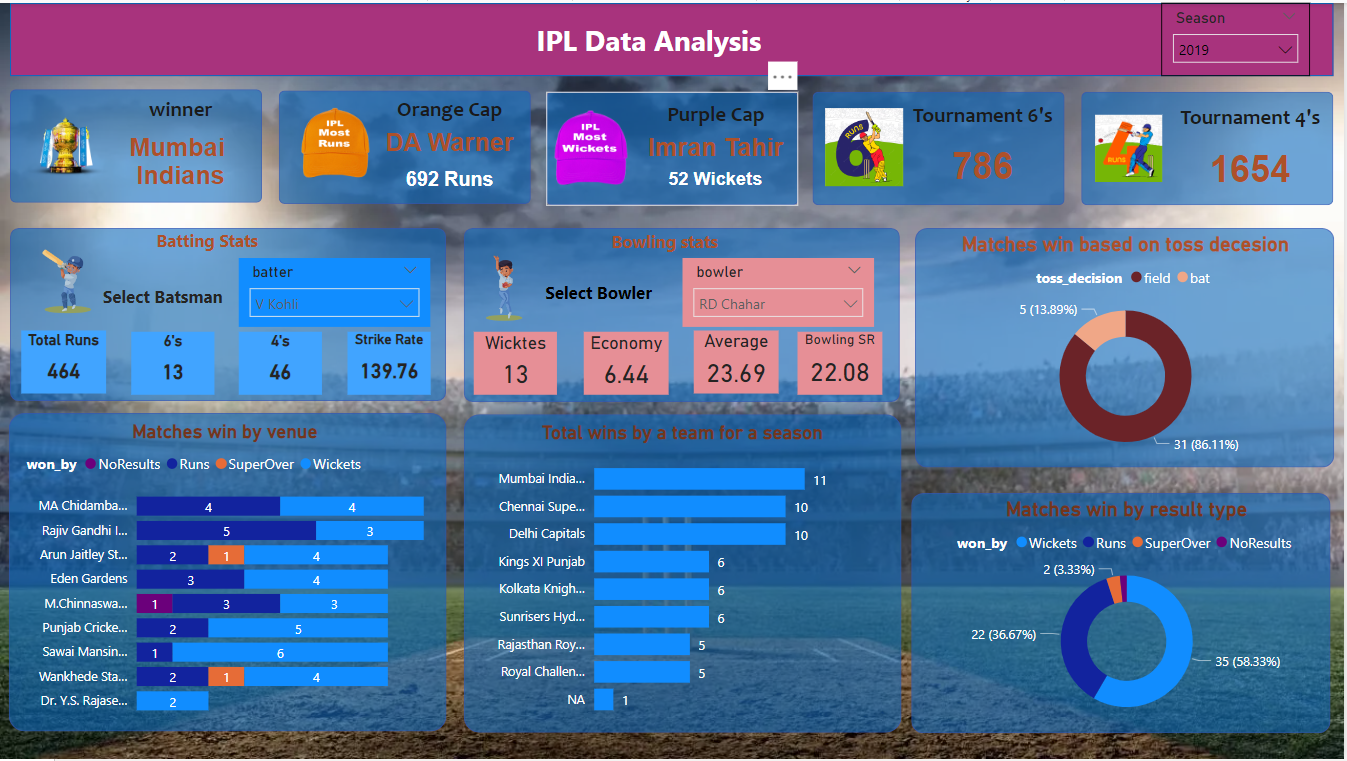

What the dashboard file says about the page in this screenshot:
{"tool":"powerbi","page":{"name":"Page 1","canvas":[1280,720],"ordinal":0},"visuals":[{"type":"shape","box":[9.6,213.9,415.4,164.5],"z":0},{"type":"shape","box":[9.6,0,1260,69.9],"z":1000},{"type":"textbox","box":[505.9,12.3,267.4,46.6],"z":2000},{"type":"slicer","fields":{"Values":["Calender Table.Year"]},"box":[1105.1,0,141.2,69.9],"z":3000},{"type":"shape","box":[9.5,82.1,240.4,108.3],"z":4000},{"type":"card","title":"winner","fields":{"Values":["ipl_matches_2008_2022.Title Winner"]},"box":[94,88.1,155.9,98.8],"z":5000},{"type":"shape","box":[265.4,83.3,240.4,108.3],"z":6000},{"type":"shape","box":[520.1,84.5,240.4,108.3],"z":7000},{"type":"shape","box":[773.6,84.5,240.4,108.3],"z":8000},{"type":"shape","box":[1029.4,84.5,240.4,108.3],"z":9000},{"type":"card","title":"Orange Cap","fields":{"Values":["ipl_ball_by_ball_2008_2022.batter"]},"box":[349.6,87.7,156.3,65.8],"z":10000},{"type":"card","title":"Orange Cap","fields":{"Values":["ipl_ball_by_ball_2008_2022.Batter Runs"]},"box":[349.6,150.8,156.3,35.6],"z":11000},{"type":"card","title":"Purple Cap","fields":{"Values":["ipl_ball_by_ball_2008_2022.bowler"]},"box":[603.3,93.2,156.3,65.8],"z":12000},{"type":"card","title":"Purple Cap","fields":{"Values":["ipl_ball_by_ball_2008_2022.Bowler wickets"]},"box":[601.9,137.1,157.7,64.4],"z":13000},{"type":"card","title":"Tournament 6''s","fields":{"Values":["ipl_ball_by_ball_2008_2022.batsman_run"]},"box":[856.9,94.6,157.7,96],"z":14000},{"type":"card","title":"Tournament 4''s","fields":{"Values":["ipl_ball_by_ball_2008_2022.batsman_run"]},"box":[1111.9,96,157.7,96],"z":15000},{"type":"shape","box":[441.5,213.9,415.4,165.9],"z":16000},{"type":"slicer","fields":{"Values":["ipl_ball_by_ball_2008_2022.batter"]},"box":[227.6,242.7,182.3,65.8],"z":17000},{"type":"card","title":"Total Runs","fields":{"Values":["ipl_ball_by_ball_2008_2022.batsman_run"]},"box":[20.6,311.2,80.9,60.3],"z":18000},{"type":"card","title":"6''s","fields":{"Values":["ipl_ball_by_ball_2008_2022.batsman_run"]},"box":[124.8,312.6,79.5,60.3],"z":19000},{"type":"card","title":"4''s","fields":{"Values":["ipl_ball_by_ball_2008_2022.batsman_run"]},"box":[227.6,312.6,79.5,60.3],"z":20000},{"type":"card","title":"Strike Rate","fields":{"Values":["ipl_ball_by_ball_2008_2022.strike rate for batsman"]},"box":[330.4,312.6,79.5,60.3],"z":21000},{"type":"textbox","box":[93.2,263.2,134.4,50.7],"z":22000},{"type":"textbox","box":[144,209.8,126.1,50.7],"z":23000},{"type":"slicer","fields":{"Values":["ipl_ball_by_ball_2008_2022.bowler"]},"box":[649.9,242.7,182.3,65.8],"z":24000},{"type":"card","title":"Wicktes","fields":{"Values":["ipl_ball_by_ball_2008_2022.iswicket_delivery"]},"box":[451.1,312.6,79.5,60.3],"z":25000},{"type":"card","title":"Economy","fields":{"Values":["ipl_ball_by_ball_2008_2022.Economy"]},"box":[555.3,312.6,80.9,60.3],"z":26000},{"type":"card","title":"Average","fields":{"Values":["ipl_ball_by_ball_2008_2022.Average by bowler"]},"box":[660.8,311.2,80.9,60.3],"z":27000},{"type":"card","title":"Bowling SR","fields":{"Values":["ipl_ball_by_ball_2008_2022.bowling SR"]},"box":[759.6,312.6,80.9,60.3],"z":28000},{"type":"textbox","box":[514.1,259.1,120.7,34.3],"z":29000},{"type":"textbox","box":[577.2,210.6,161.9,41.7],"z":30000},{"type":"shape","box":[870.6,213.9,399,228],"z":31000},{"type":"donutChart","title":"Matches win based on toss decesion","fields":{"Y":["ipl_matches_2008_2022.Match win on toss dec"],"Category":["ipl_matches_2008_2022.toss_decision"]},"box":[873.4,219.4,396.2,222.1],"z":32000},{"type":"shape","box":[867.9,466.2,399,229],"z":33000},{"type":"donutChart","title":"Matches win by result type","fields":{"Category":["ipl_matches_2008_2022.won_by"],"Y":["ipl_matches_2008_2022.id"]},"box":[874.7,471.6,396.2,222.1],"z":34000},{"type":"shape","box":[8.3,390.3,416.5,303.5],"z":35000},{"type":"barChart","title":"Matches win by venue","fields":{"Category":["ipl_matches_2008_2022.venue"],"Y":["ipl_matches_2008_2022.id"],"Series":["ipl_matches_2008_2022.won_by"]},"box":[20.2,397.5,388,290.4],"z":36000},{"type":"shape","box":[441.5,391.5,416.5,303.5],"z":36001},{"type":"barChart","title":"Total wins by a team for a season","fields":{"Category":["ipl_matches_2008_2022.winning_team"],"Y":["ipl_matches_2008_2022.winning_team"]},"box":[455.8,398.7,388,290.4],"z":36002},{"type":"image","box":[20.2,94,88.1,86.9],"z":36003},{"type":"image","box":[278.5,92.8,82.1,80.9],"z":36004},{"type":"image","box":[520.1,95.2,85.7,85.7],"z":36005},{"type":"image","box":[778.3,95.2,89.3,84.5],"z":36006},{"type":"image","box":[9.5,209.5,108.3,110.7],"z":36007},{"type":"image","box":[424.9,214.2,109.5,114.2],"z":36008},{"type":"image","box":[1037.8,95.2,73.8,85.7],"z":36009}]}

Visuals, with their boxes in screenshot pixels (x1, y1, x2, y2), scaled from the page's 1280x720 canvas onto the 1347x761 screenshot:
shape: Rect(10, 226, 447, 400)
shape: Rect(10, 0, 1336, 74)
textbox: Rect(532, 13, 814, 62)
slicer - Calender Table.Year: Rect(1163, 0, 1312, 74)
shape: Rect(10, 87, 263, 201)
"winner" card: Rect(99, 93, 263, 198)
shape: Rect(279, 88, 532, 203)
shape: Rect(547, 89, 800, 204)
shape: Rect(814, 89, 1067, 204)
shape: Rect(1083, 89, 1336, 204)
"Orange Cap" card: Rect(368, 93, 532, 162)
"Orange Cap" card: Rect(368, 159, 532, 197)
"Purple Cap" card: Rect(635, 99, 799, 168)
"Purple Cap" card: Rect(633, 145, 799, 213)
"Tournament 6''s" card: Rect(902, 100, 1068, 201)
"Tournament 4''s" card: Rect(1170, 101, 1336, 203)
shape: Rect(465, 226, 902, 401)
slicer - ipl_ball_by_ball_2008_2022.batter: Rect(240, 257, 431, 326)
"Total Runs" card: Rect(22, 329, 107, 393)
"6''s" card: Rect(131, 330, 215, 394)
"4''s" card: Rect(240, 330, 323, 394)
"Strike Rate" card: Rect(348, 330, 431, 394)
textbox: Rect(98, 278, 240, 332)
textbox: Rect(152, 222, 284, 275)
slicer - ipl_ball_by_ball_2008_2022.bowler: Rect(684, 257, 876, 326)
"Wicktes" card: Rect(475, 330, 558, 394)
"Economy" card: Rect(584, 330, 670, 394)
"Average" card: Rect(695, 329, 781, 393)
"Bowling SR" card: Rect(799, 330, 884, 394)
textbox: Rect(541, 274, 668, 310)
textbox: Rect(607, 223, 778, 267)
shape: Rect(916, 226, 1336, 467)
"Matches win based on toss decesion" donutChart: Rect(919, 232, 1336, 467)
shape: Rect(913, 493, 1333, 735)
"Matches win by result type" donutChart: Rect(920, 498, 1337, 733)
shape: Rect(9, 413, 447, 733)
"Matches win by venue" barChart: Rect(21, 420, 430, 727)
shape: Rect(465, 414, 903, 735)
"Total wins by a team for a season" barChart: Rect(480, 421, 888, 728)
image: Rect(21, 99, 114, 191)
image: Rect(293, 98, 379, 184)
image: Rect(547, 101, 638, 191)
image: Rect(819, 101, 913, 190)
image: Rect(10, 221, 124, 338)
image: Rect(447, 226, 562, 347)
image: Rect(1092, 101, 1170, 191)
